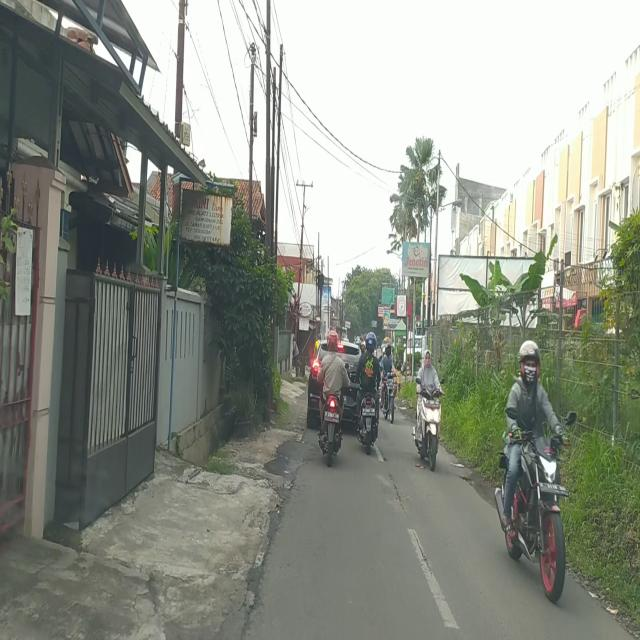Drain Hole: (413, 522, 433, 577), (388, 466, 404, 512)
